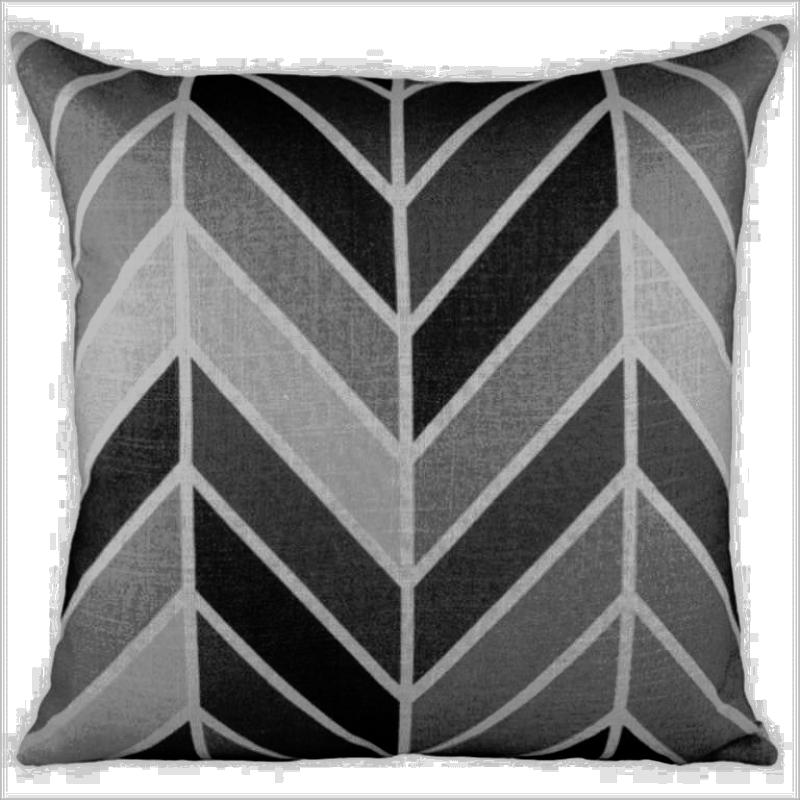pillow: (4, 21, 798, 778)
